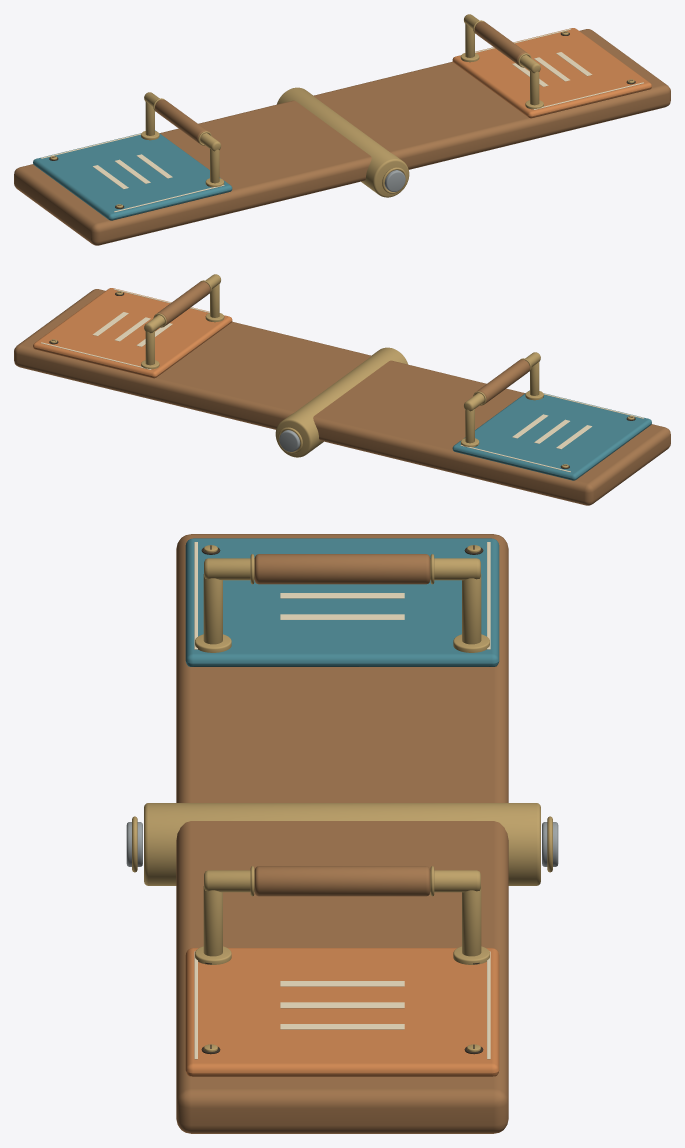
File: seesaw_board.glb
3 renders of one model, top to bottom at view 1: azimuth 30°, elevation 25°; view 2: azimuth 150°, elevation 25°; view 3: azimuth 270°, elevation 25°, orthographic. The views are drawn at different scales.
Parts seen in each view (by area): view 1: V15_HoneyOak, V15_BluePaint, V15_OrangePaint, V15_BrushedBrass, V15_CreamPaint, V15_BearingSteel; view 2: V15_HoneyOak, V15_BluePaint, V15_OrangePaint, V15_BrushedBrass, V15_CreamPaint, V15_BearingSteel; view 3: V15_HoneyOak, V15_OrangePaint, V15_BluePaint, V15_BrushedBrass, V15_CreamPaint, V15_BearingSteel.
Part boxes in pixels (box(x1,y1,x2,y2)): V15_HoneyOak: box(14, 21, 670, 245); V15_BluePaint: box(33, 130, 232, 220); V15_OrangePaint: box(452, 28, 651, 118); V15_BrushedBrass: box(50, 14, 634, 207); V15_CreamPaint: box(41, 29, 643, 212); V15_BearingSteel: box(384, 170, 405, 191); V15_HoneyOak: box(14, 281, 670, 505); V15_BluePaint: box(452, 390, 651, 480); V15_OrangePaint: box(33, 288, 232, 378); V15_BrushedBrass: box(50, 274, 634, 467); V15_CreamPaint: box(41, 289, 643, 472); V15_BearingSteel: box(279, 430, 300, 451); V15_HoneyOak: box(176, 534, 508, 1133); V15_OrangePaint: box(185, 948, 499, 1076); V15_BluePaint: box(185, 538, 499, 666); V15_BrushedBrass: box(132, 545, 552, 1051); V15_CreamPaint: box(194, 542, 490, 1059); V15_BearingSteel: box(126, 822, 558, 866).
Bounding box in the file's own units: 2.9 × 0.408 × 0.935.
